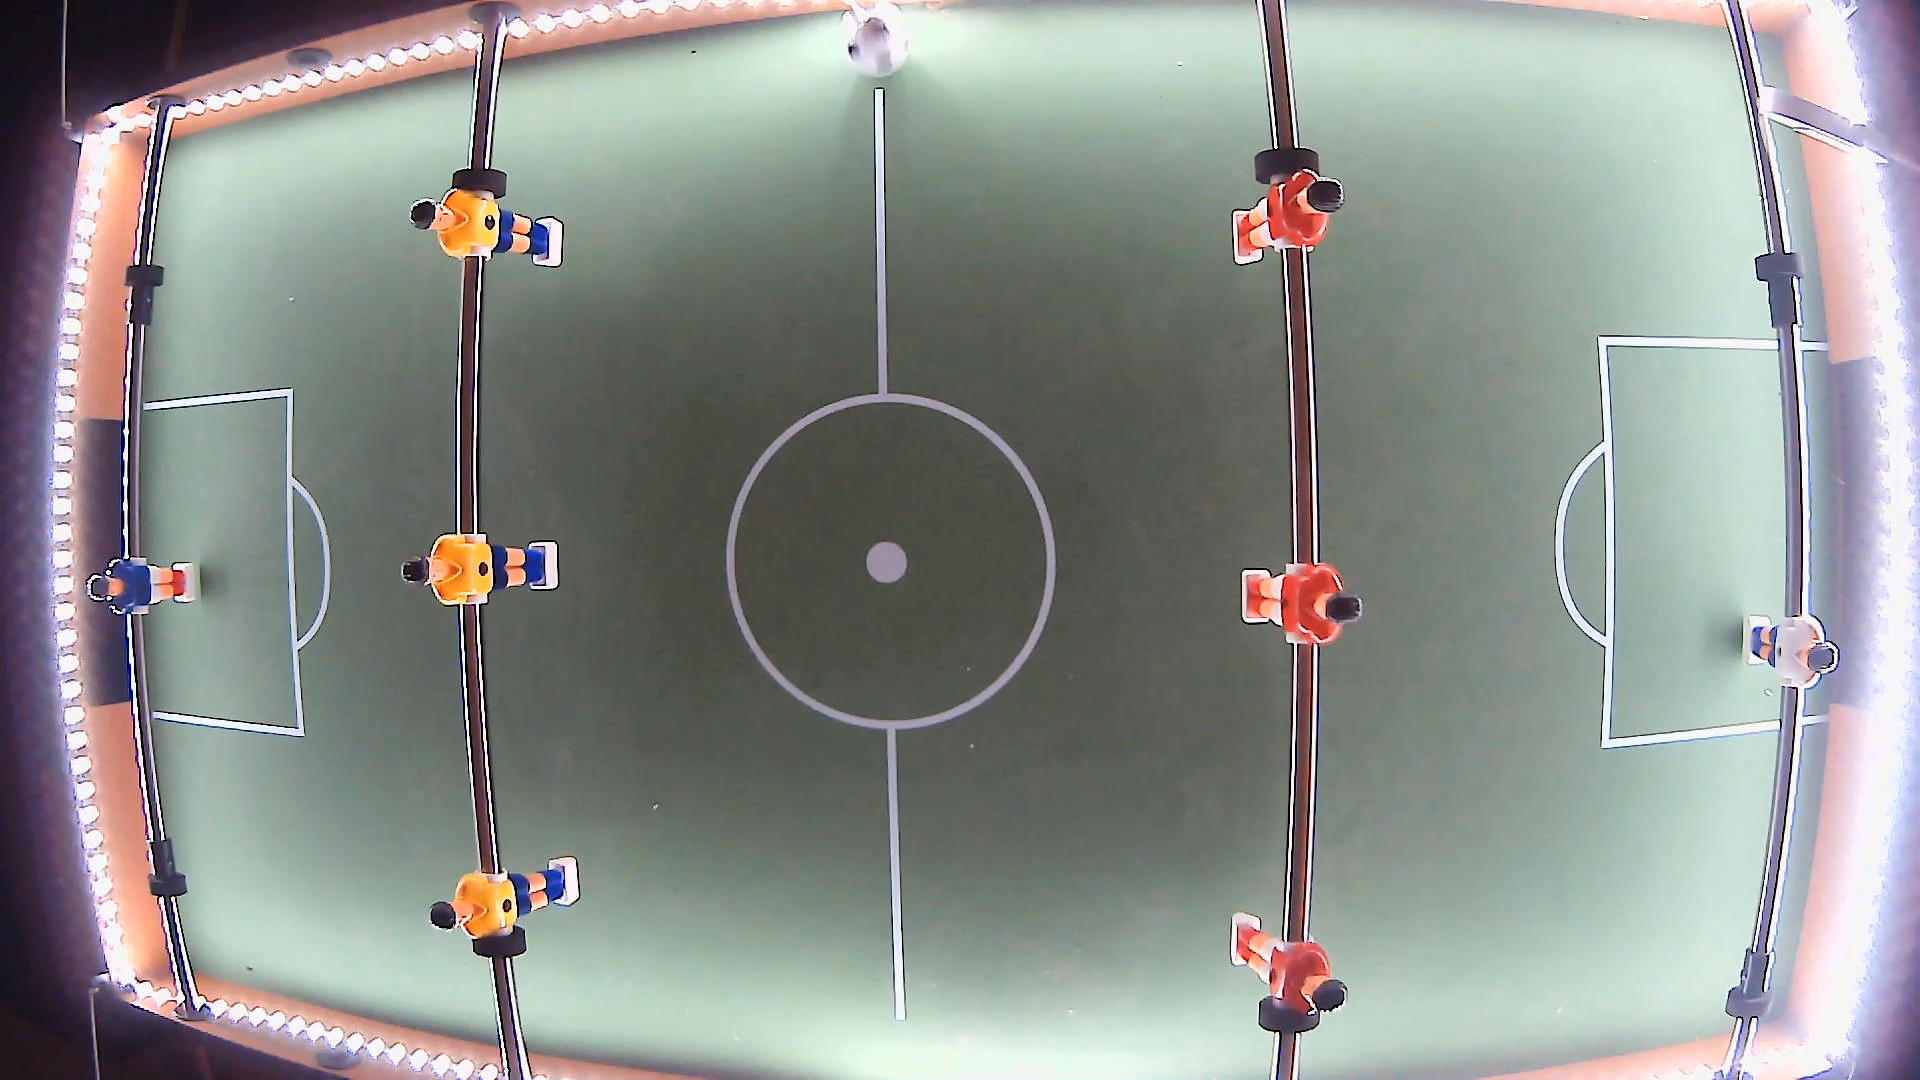Foosball: (837, 1, 911, 76)
